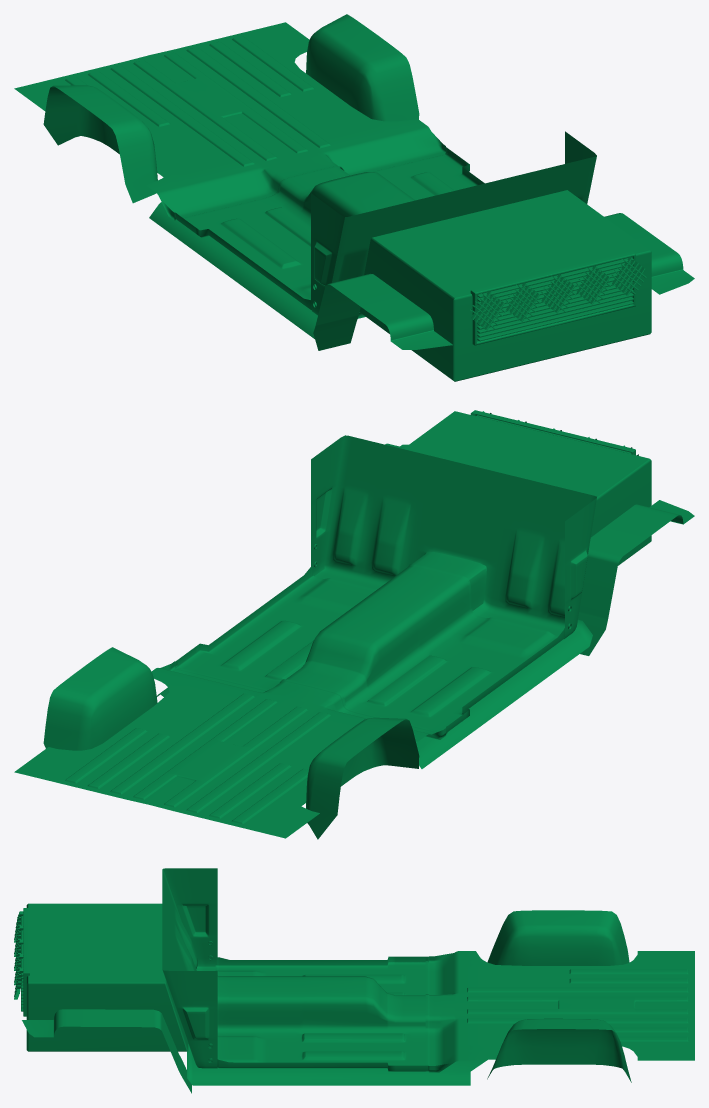
File: FHXY_02BX_A6_DiPan_MD_exp.fbx
3 views of the same model, one above another, from view 1: azimuth 30°, elevation 25°; view 2: azimuth 150°, elevation 25°; view 3: azimuth 270°, elevation 25° (orthographic). The views are drawn at different scales.
Parts seen in each view (by area): view 1: FHXY_02BX_A6_DiPan_MD_L_5, FHXY_02BX_A6_DiPan_MD_L_2, FHXY_02BX_A6_DiPan_MD_L_6, FHXY_02BX_A6_DiPan_MD_L_9, FHXY_02BX_A6_DiPan_MD_L_7, FHXY_02BX_A6_DiPan_MD_L_3, mirrored_x_2, mirrored_x_1, FHXY_02BX_A6_DiPan_MD_L_1, FHXY_02BX_A6_DiPan_MD_L_4, FHXY_02BX_A6_DiPan_MD_L_8; view 2: FHXY_02BX_A6_DiPan_MD_L_9, FHXY_02BX_A6_DiPan_MD_L_6, FHXY_02BX_A6_DiPan_MD_L_5, FHXY_02BX_A6_DiPan_MD_L_2, FHXY_02BX_A6_DiPan_MD_L_7, mirrored_x_2, mirrored_x_1, FHXY_02BX_A6_DiPan_MD_L_1, FHXY_02BX_A6_DiPan_MD_L_3; view 3: FHXY_02BX_A6_DiPan_MD_L_6, FHXY_02BX_A6_DiPan_MD_L_5, FHXY_02BX_A6_DiPan_MD_L_2, FHXY_02BX_A6_DiPan_MD_L_9, mirrored_x_2, FHXY_02BX_A6_DiPan_MD_L_1, FHXY_02BX_A6_DiPan_MD_L_7, FHXY_02BX_A6_DiPan_MD_L_8, FHXY_02BX_A6_DiPan_MD_L_3, FHXY_02BX_A6_DiPan_MD_L_4.
Part boxes in pixels (x1=…): FHXY_02BX_A6_DiPan_MD_L_5: x1=14, y1=22, x2=447, y2=221; FHXY_02BX_A6_DiPan_MD_L_2: x1=359, y1=190, x2=651, y2=381; FHXY_02BX_A6_DiPan_MD_L_6: x1=175, y1=148, x2=484, y2=309; FHXY_02BX_A6_DiPan_MD_L_9: x1=311, y1=131, x2=596, y2=315; FHXY_02BX_A6_DiPan_MD_L_7: x1=306, y1=14, x2=419, y2=121; FHXY_02BX_A6_DiPan_MD_L_3: x1=470, y1=251, x2=635, y2=345; mirrored_x_2: x1=43, y1=85, x2=157, y2=203; mirrored_x_1: x1=313, y1=273, x2=452, y2=350; FHXY_02BX_A6_DiPan_MD_L_1: x1=149, y1=156, x2=365, y2=338; FHXY_02BX_A6_DiPan_MD_L_4: x1=470, y1=256, x2=646, y2=330; FHXY_02BX_A6_DiPan_MD_L_8: x1=604, y1=213, x2=694, y2=294; FHXY_02BX_A6_DiPan_MD_L_9: x1=311, y1=435, x2=596, y2=638; FHXY_02BX_A6_DiPan_MD_L_6: x1=175, y1=564, x2=564, y2=732; FHXY_02BX_A6_DiPan_MD_L_5: x1=14, y1=660, x2=447, y2=838; FHXY_02BX_A6_DiPan_MD_L_2: x1=403, y1=411, x2=651, y2=565; FHXY_02BX_A6_DiPan_MD_L_7: x1=43, y1=647, x2=157, y2=750; mirrored_x_2: x1=306, y1=717, x2=419, y2=839; mirrored_x_1: x1=578, y1=500, x2=694, y2=655; FHXY_02BX_A6_DiPan_MD_L_1: x1=156, y1=619, x2=592, y2=806; FHXY_02BX_A6_DiPan_MD_L_3: x1=470, y1=410, x2=635, y2=455; FHXY_02BX_A6_DiPan_MD_L_6: x1=215, y1=956, x2=428, y2=1071; FHXY_02BX_A6_DiPan_MD_L_5: x1=425, y1=951, x2=694, y2=1072; FHXY_02BX_A6_DiPan_MD_L_2: x1=26, y1=903, x2=188, y2=1051; FHXY_02BX_A6_DiPan_MD_L_9: x1=162, y1=868, x2=217, y2=1068; mirrored_x_2: x1=487, y1=910, x2=629, y2=965; FHXY_02BX_A6_DiPan_MD_L_1: x1=187, y1=1044, x2=500, y2=1085; FHXY_02BX_A6_DiPan_MD_L_7: x1=487, y1=1018, x2=631, y2=1082; FHXY_02BX_A6_DiPan_MD_L_8: x1=22, y1=1009, x2=191, y2=1093; FHXY_02BX_A6_DiPan_MD_L_3: x1=21, y1=908, x2=29, y2=1016; FHXY_02BX_A6_DiPan_MD_L_4: x1=14, y1=911, x2=23, y2=999.
Size of the model in its own units: 182 by 85.38 by 441.
